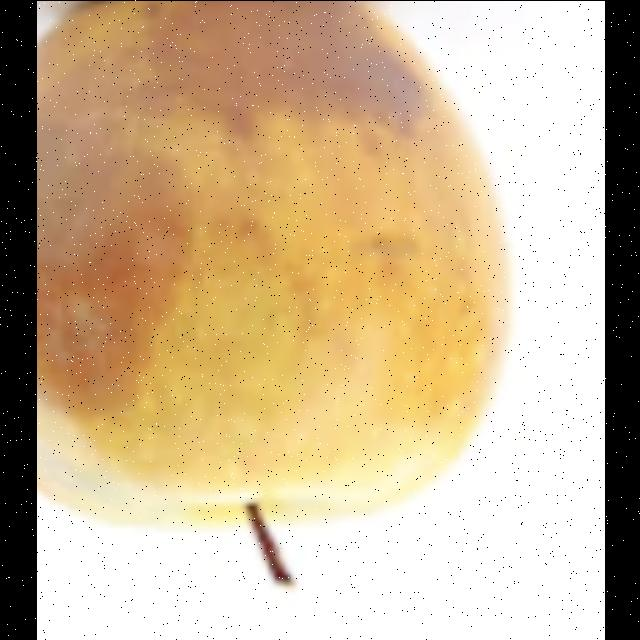Apel Segar: (36, 149, 506, 529)
Apel Tidak Segar: (36, 0, 440, 396)
